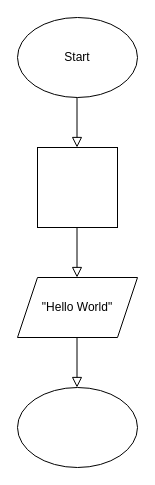
Some shapes in this 155 by 485 pixel diagram are drawn without their labels. Each missing label, with the centre of its shape:
End: (x=77, y=427)
Print(" Hello Wolrd" * 100): (x=77, y=187)
